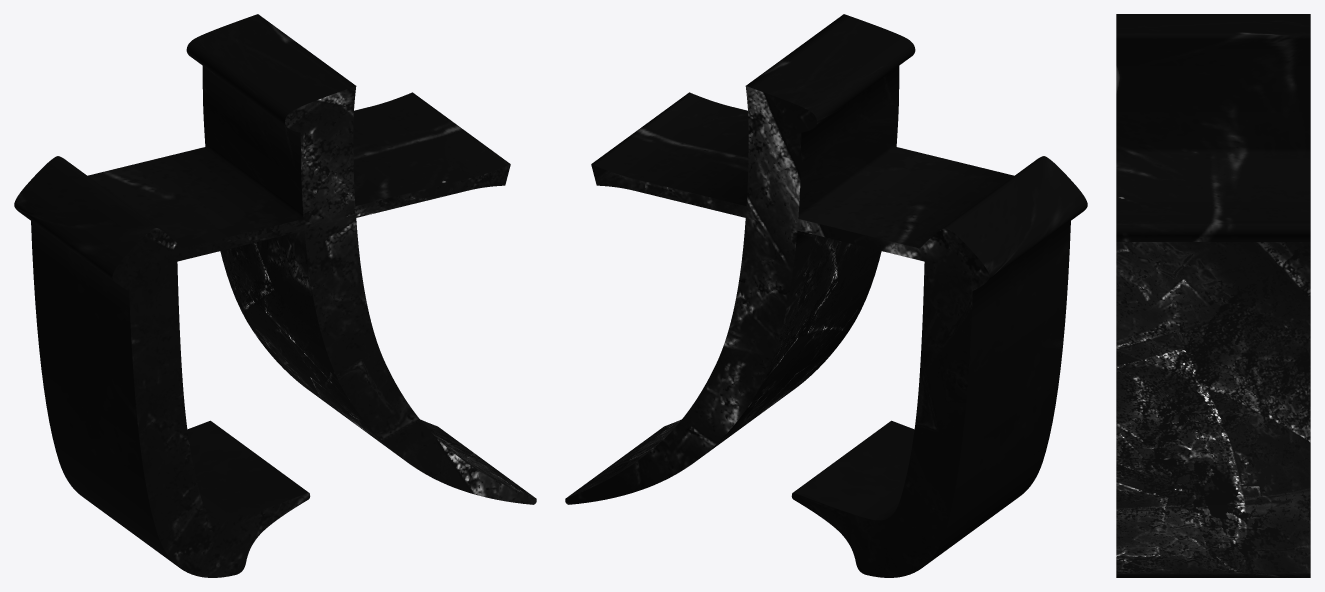
The model's file is RYOKU.obj.
3 views of the same model, side by side, from view 1: azimuth 30°, elevation 25°; view 2: azimuth 150°, elevation 25°; view 3: azimuth 270°, elevation 25° (orthographic).
Parts seen in each view (by area): view 1: ryoku; view 2: ryoku; view 3: ryoku.
Part boxes in pixels (bbox=[...]): ryoku: bbox=[14, 14, 536, 577]; ryoku: bbox=[565, 14, 1087, 577]; ryoku: bbox=[1116, 14, 1310, 577].
Bounding box in the file's own units: 4.99 × 5.19 × 2.
Materials: 1 (1 with a texture image).
